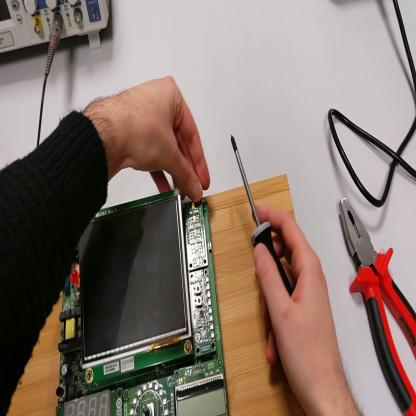hand: (252, 207, 343, 401), (114, 75, 212, 205)
low voltage board: (56, 188, 231, 416)
oscilloscope: (1, 1, 111, 51)
pliers: (339, 199, 416, 415)
screwdriver-: (229, 131, 293, 300)
working area: (7, 169, 306, 416)
